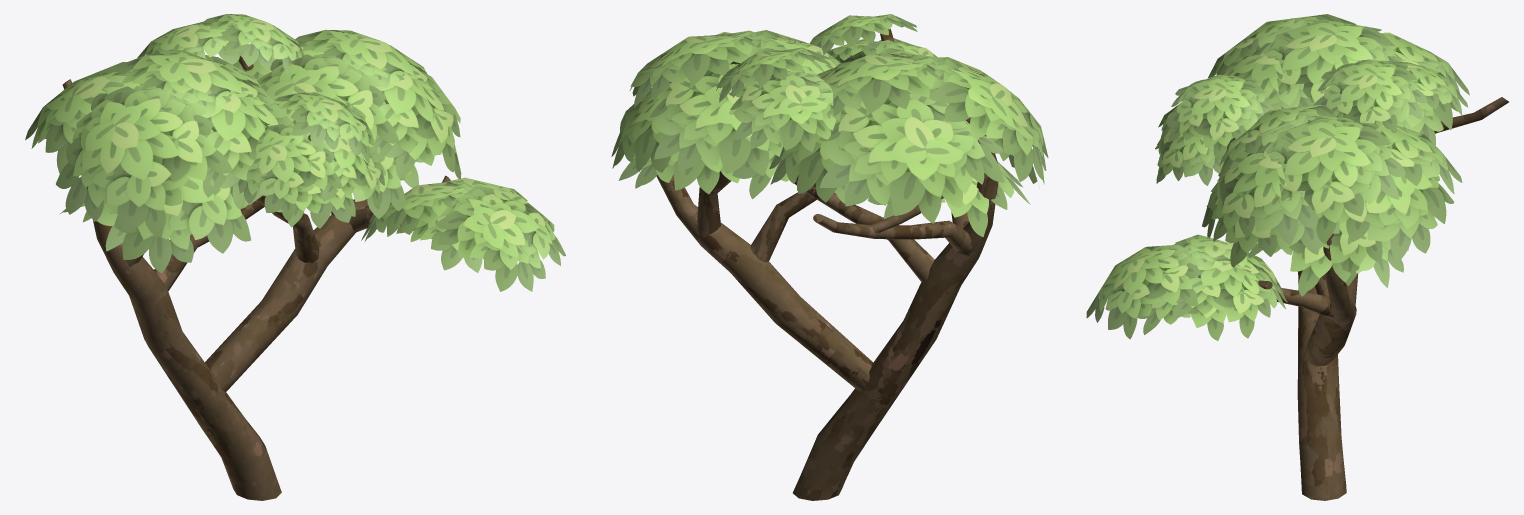
File: Tree_3.gltf
3 views of the same model, side by side, from view 1: azimuth 30°, elevation 25°; view 2: azimuth 150°, elevation 25°; view 3: azimuth 270°, elevation 25° (orthographic). The views are drawn at different scales.
Visible parts, largest first — view 1: Tree_3; view 2: Tree_3; view 3: Tree_3.
Boxes of the visible parts, x1=… form: Tree_3: x1=25, y1=14, x2=565, y2=500; Tree_3: x1=611, y1=14, x2=1048, y2=500; Tree_3: x1=1086, y1=14, x2=1508, y2=500.
Bounding box in the file's own units: 5.78 × 5.72 × 5.17.
2 materials, 2 textured.
